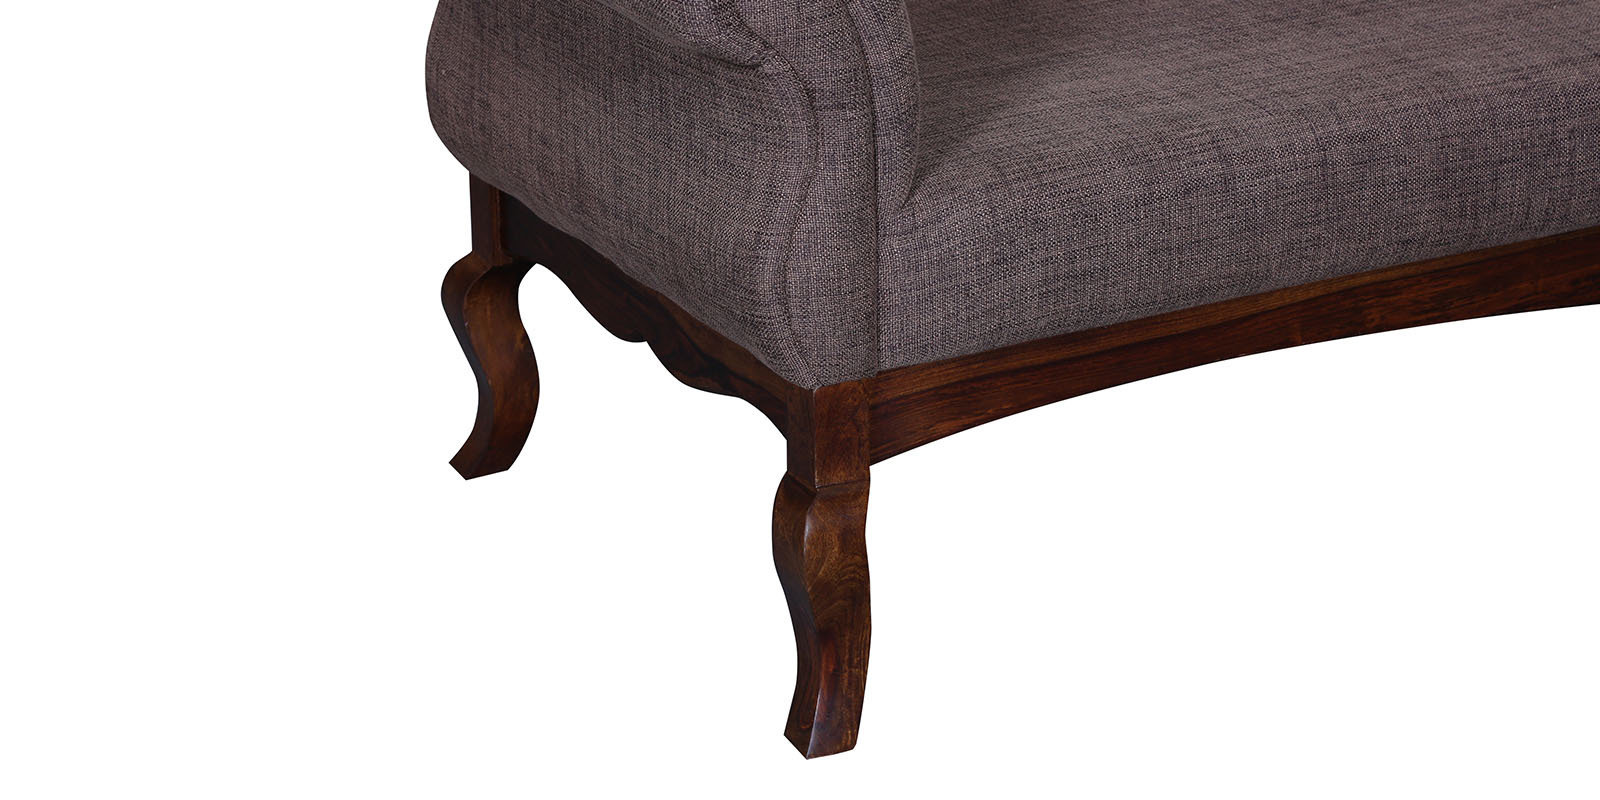Anne Three Seater Sofa in Provincial Teak Finish by Amberville: (359, 3, 1600, 754)
